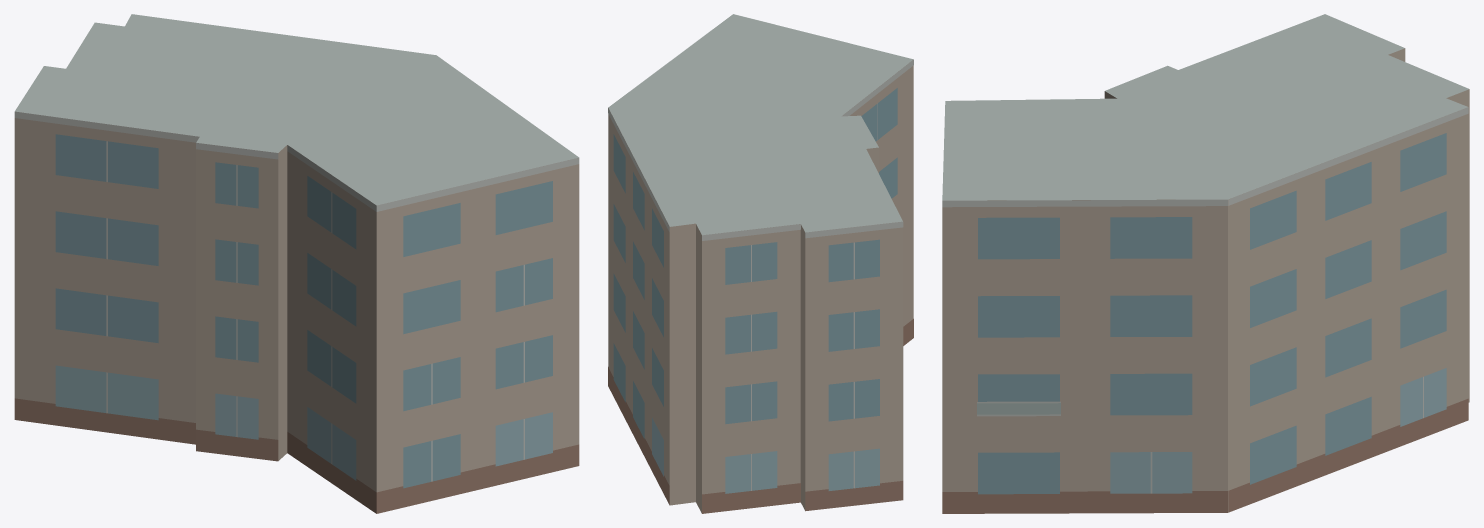
File: survey-upis-32802143.glb
3 renders of one model, left to right at view 1: azimuth 30°, elevation 25°; view 2: azimuth 150°, elevation 25°; view 3: azimuth 270°, elevation 25°, orthographic. The views are drawn at different scales.
Visible parts, largest first — view 1: survey-upis-32802143.tmp; view 2: survey-upis-32802143.tmp; view 3: survey-upis-32802143.tmp.
Boxes of the visible parts, bbox=[...] form: survey-upis-32802143.tmp: bbox=[14, 14, 579, 513]; survey-upis-32802143.tmp: bbox=[608, 14, 913, 513]; survey-upis-32802143.tmp: bbox=[942, 14, 1469, 513].
Size of the model in its own units: 14.92 by 11.65 by 17.79.
